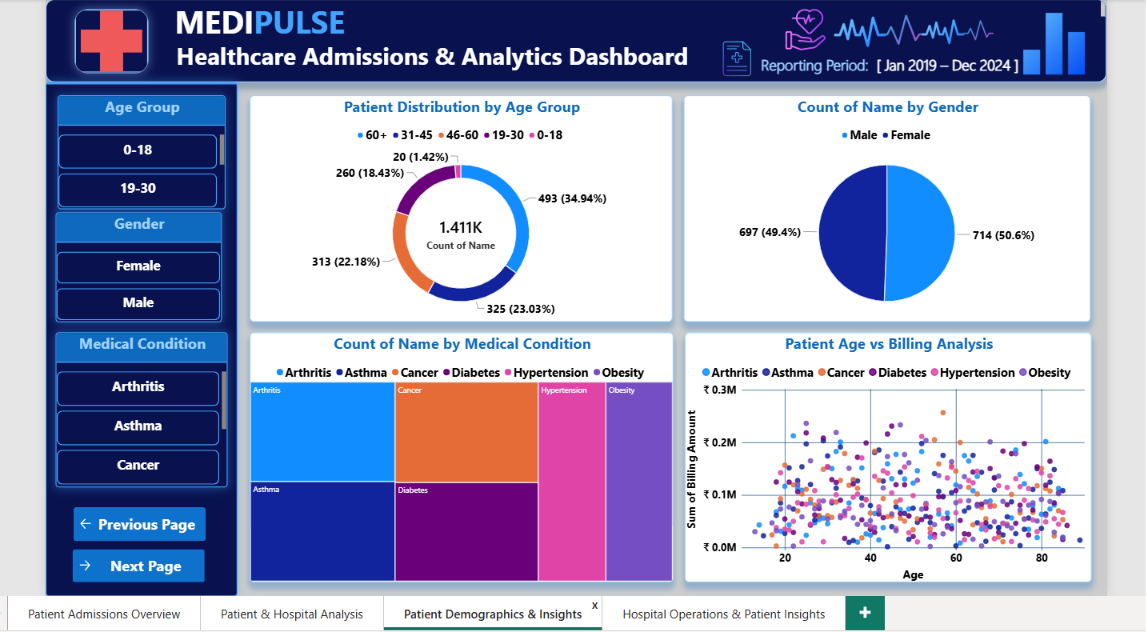

The dashboard page shown, as its layout file describes it:
{"tool":"powerbi","page":{"name":"Patient Demographics & Insights\t","canvas":[1920,1080],"ordinal":2},"visuals":[{"type":"textbox","box":[0,0,1920,150.2],"z":0},{"type":"image","box":[52.5,18.1,133.9,115.8],"z":1000},{"type":"image","box":[1759,21.7,132.1,117.6],"z":2000},{"type":"image","box":[1212.5,76,77.8,63.3],"z":3000},{"type":"textbox","box":[0,150.2,347.5,930.2],"z":4000},{"type":"actionButton","box":[50.7,919.3,238.9,61.5],"z":5000},{"type":"actionButton","box":[48.9,995.3,238.9,59.7],"z":6000},{"type":"donutChart","title":"Patient Distribution by Age Group","fields":{"Category":["Clean_Dataset_Healthcare_Patien.Age Group"],"Y":["CountNonNull(Clean_Dataset_Healthcare_Patien.Name)"]},"box":[369.2,173.7,765.5,410.8],"z":7000},{"type":"pieChart","fields":{"Category":["Clean_Dataset_Healthcare_Patien.Gender"],"Y":["CountNonNull(Clean_Dataset_Healthcare_Patien.Name)"]},"box":[1154.6,173.7,736.5,410.8],"z":8000},{"type":"treemap","fields":{"Group":["Clean_Dataset_Healthcare_Patien.Medical Condition"],"Values":["CountNonNull(Clean_Dataset_Healthcare_Patien.Name)"]},"box":[369.2,602.6,767.3,452.4],"z":9000},{"type":"scatterChart","title":"Patient Age vs Billing Analysis","fields":{"Series":["Clean_Dataset_Healthcare_Patien.Medical Condition"],"X":["Clean_Dataset_Healthcare_Patien.Age"],"Y":["Sum(Clean_Dataset_Healthcare_Patien.Billing Amount)"]},"box":[1156.4,602.6,736.5,452.4],"z":10000},{"type":"advancedSlicerVisual","fields":{"Values":["Clean_Dataset_Healthcare_Patien.Age Group"]},"box":[21.7,173.7,304,206.3],"z":11000},{"type":"advancedSlicerVisual","fields":{"Values":["Clean_Dataset_Healthcare_Patien.Gender"]},"box":[18.1,385.5,300.4,199.1],"z":12000},{"type":"advancedSlicerVisual","fields":{"Values":["Clean_Dataset_Healthcare_Patien.Medical Condition"]},"box":[18.1,602.6,311.3,280.5],"z":13000},{"type":"image","box":[1312,12.7,126.7,85.1],"z":13001},{"type":"image","box":[1646.8,29,83.2,54.3],"z":13002},{"type":"image","box":[1478.5,14.5,146.6,81.4],"z":13003},{"type":"image","box":[1424.2,0,99.5,117.6],"z":13004},{"type":"image","box":[1559.9,18.1,128.5,81.4],"z":13005}]}

Visuals, with their boxes on the page's 1920x1080 design canvas (x1, y1, x2, y2). These are canvas units, not pixel positions in the 1146x632 screenshot, which may show the page scaled, cropped or inside an application window:
textbox: (0, 0, 1920, 150)
image: (52, 18, 186, 134)
image: (1759, 22, 1891, 139)
image: (1212, 76, 1290, 139)
textbox: (0, 150, 348, 1080)
actionButton: (51, 919, 290, 981)
actionButton: (49, 995, 288, 1055)
"Patient Distribution by Age Group" donutChart: (369, 174, 1135, 584)
pieChart - Clean_Dataset_Healthcare_Patien.Gender x CountNonNull(Clean_Dataset_Healthcare_Patien.Name): (1155, 174, 1891, 584)
treemap - Clean_Dataset_Healthcare_Patien.Medical Condition x CountNonNull(Clean_Dataset_Healthcare_Patien.Name): (369, 603, 1136, 1055)
"Patient Age vs Billing Analysis" scatterChart: (1156, 603, 1893, 1055)
advancedSlicerVisual - Clean_Dataset_Healthcare_Patien.Age Group: (22, 174, 326, 380)
advancedSlicerVisual - Clean_Dataset_Healthcare_Patien.Gender: (18, 386, 318, 585)
advancedSlicerVisual - Clean_Dataset_Healthcare_Patien.Medical Condition: (18, 603, 329, 883)
image: (1312, 13, 1439, 98)
image: (1647, 29, 1730, 83)
image: (1478, 14, 1625, 96)
image: (1424, 0, 1524, 118)
image: (1560, 18, 1688, 100)
